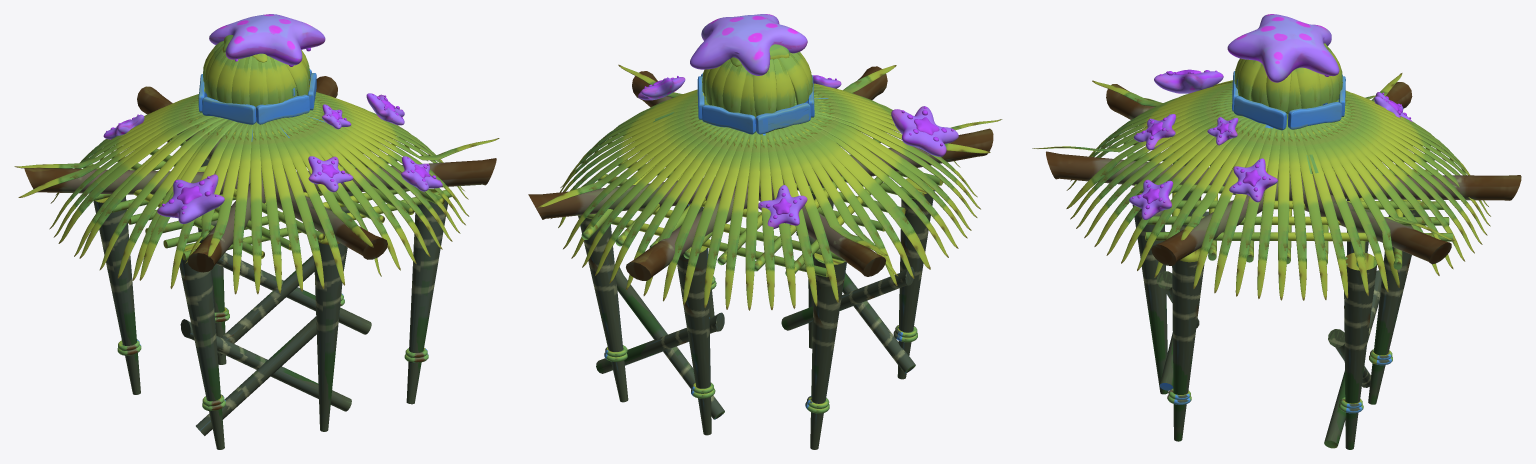
Rendered from Cabaña Equipo azul.fbx.
3 views of the same model, side by side, from view 1: azimuth 30°, elevation 25°; view 2: azimuth 150°, elevation 25°; view 3: azimuth 270°, elevation 25° (orthographic).
Visible parts, largest first — view 1: pSphere86.005, PolySphere_1, PolySphere_1.004, PolySphere_1.001, PolySphere_1.003, PolySphere_1.002; view 2: pSphere86.005, PolySphere_1, PolySphere_1.004, PolySphere_1.005, PolySphere_1.002; view 3: pSphere86.005, PolySphere_1, PolySphere_1.004, PolySphere_1.002, PolySphere_1.003, PolySphere_1.001, PolySphere_1.009.
Boxes of the visible parts, bbox=[...] form: pSphere86.005: bbox=[14, 35, 499, 449]; PolySphere_1: bbox=[209, 14, 325, 66]; PolySphere_1.004: bbox=[157, 174, 224, 223]; PolySphere_1.001: bbox=[308, 156, 353, 192]; PolySphere_1.003: bbox=[401, 156, 442, 191]; PolySphere_1.002: bbox=[366, 93, 404, 125]; pSphere86.005: bbox=[528, 44, 1002, 449]; PolySphere_1: bbox=[690, 14, 807, 75]; PolySphere_1.004: bbox=[891, 106, 958, 156]; PolySphere_1.005: bbox=[758, 185, 807, 228]; PolySphere_1.002: bbox=[638, 76, 685, 100]; pSphere86.005: bbox=[1032, 43, 1521, 449]; PolySphere_1: bbox=[1227, 14, 1339, 82]; PolySphere_1.004: bbox=[1154, 69, 1223, 93]; PolySphere_1.002: bbox=[1229, 158, 1277, 202]; PolySphere_1.003: bbox=[1129, 179, 1173, 219]; PolySphere_1.001: bbox=[1133, 114, 1175, 150]; PolySphere_1.009: bbox=[1207, 117, 1238, 145].
Bounding box in the file's own units: 1195 × 1126 × 1326.
